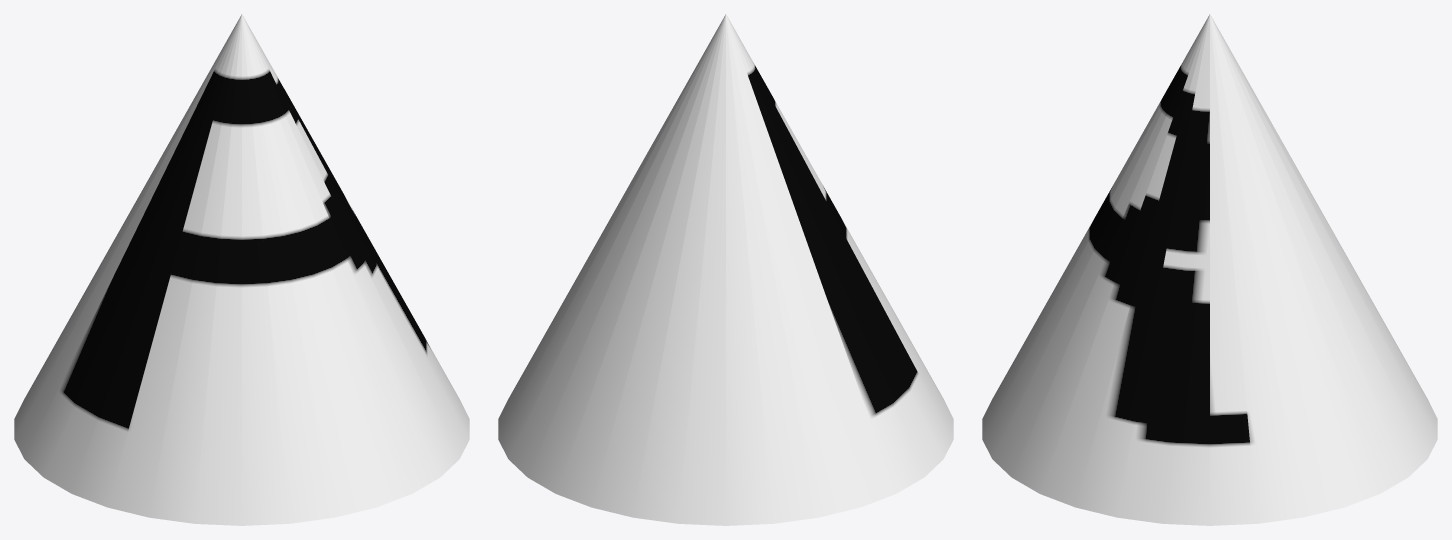
3 views of the same model, side by side, from view 1: azimuth 30°, elevation 25°; view 2: azimuth 150°, elevation 25°; view 3: azimuth 270°, elevation 25° (orthographic).
Parts seen in each view (by area): view 1: cone; view 2: cone; view 3: cone.
Boxes of the visible parts, x1=… form: cone: x1=14, y1=14, x2=469, y2=525; cone: x1=498, y1=14, x2=953, y2=525; cone: x1=982, y1=14, x2=1437, y2=525.
Size of the model in its own units: 1 by 1 by 0.9945.
